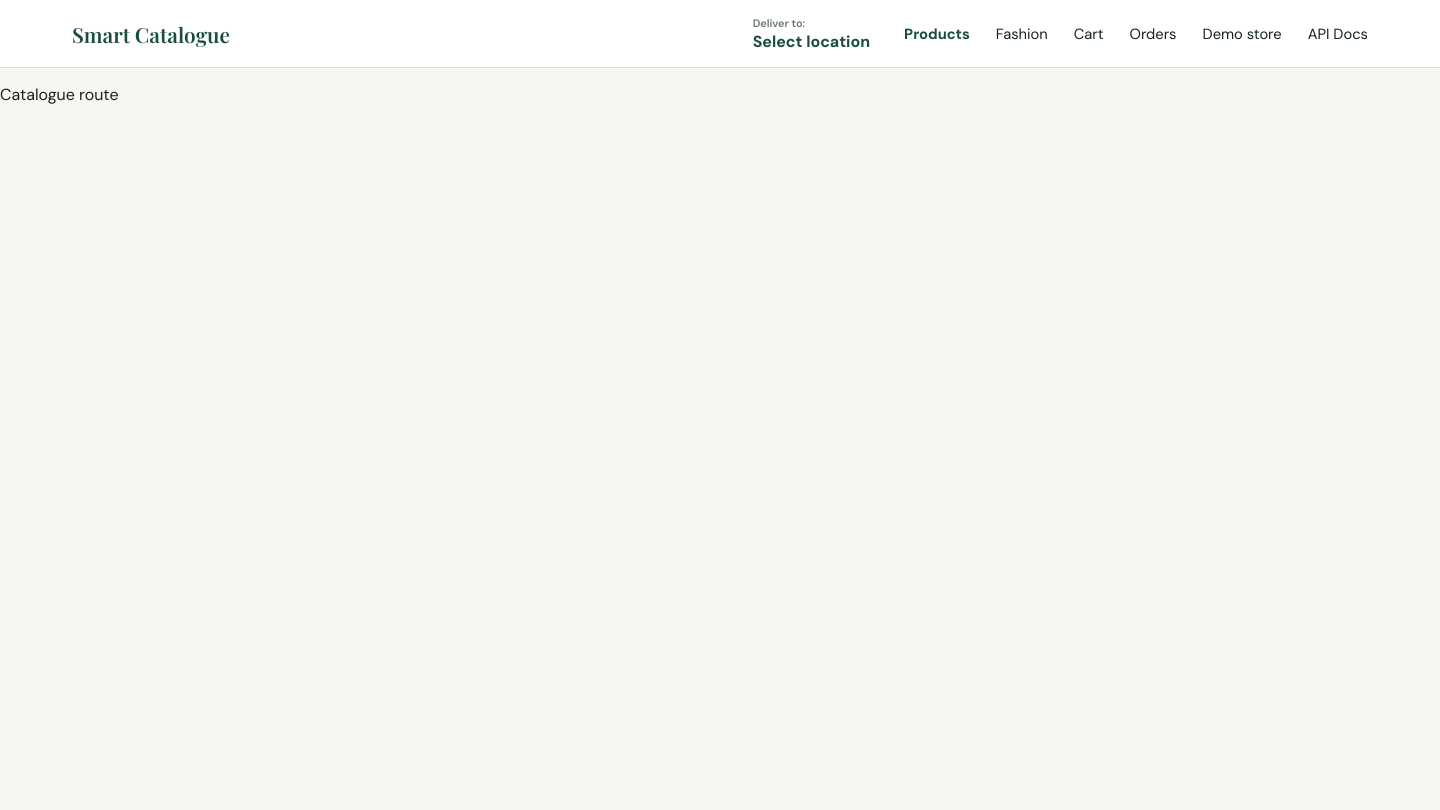
Scenario: LocationSelector › handles geolocation error code 1
The image size is (1440, 810).
What coordinates should you click on to do the following:
click the button "Deliver to: Select location"
I would click on:
 (811, 34)
Its box is [743,10,880,58].
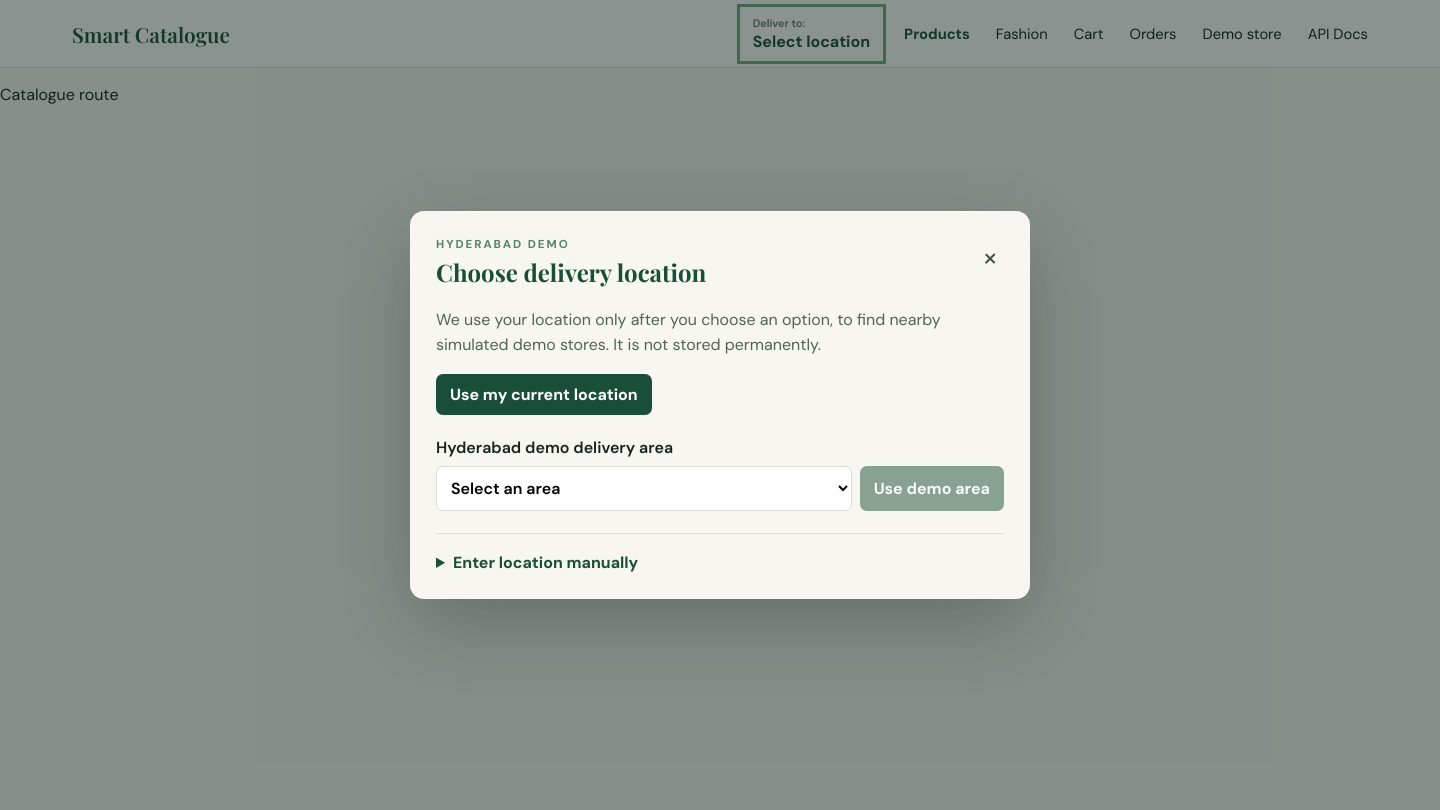
What coordinates should you click on to do the following:
click the button "Use my current location"
I would click on:
 (544, 394)
Its box is [436,374,652,415].
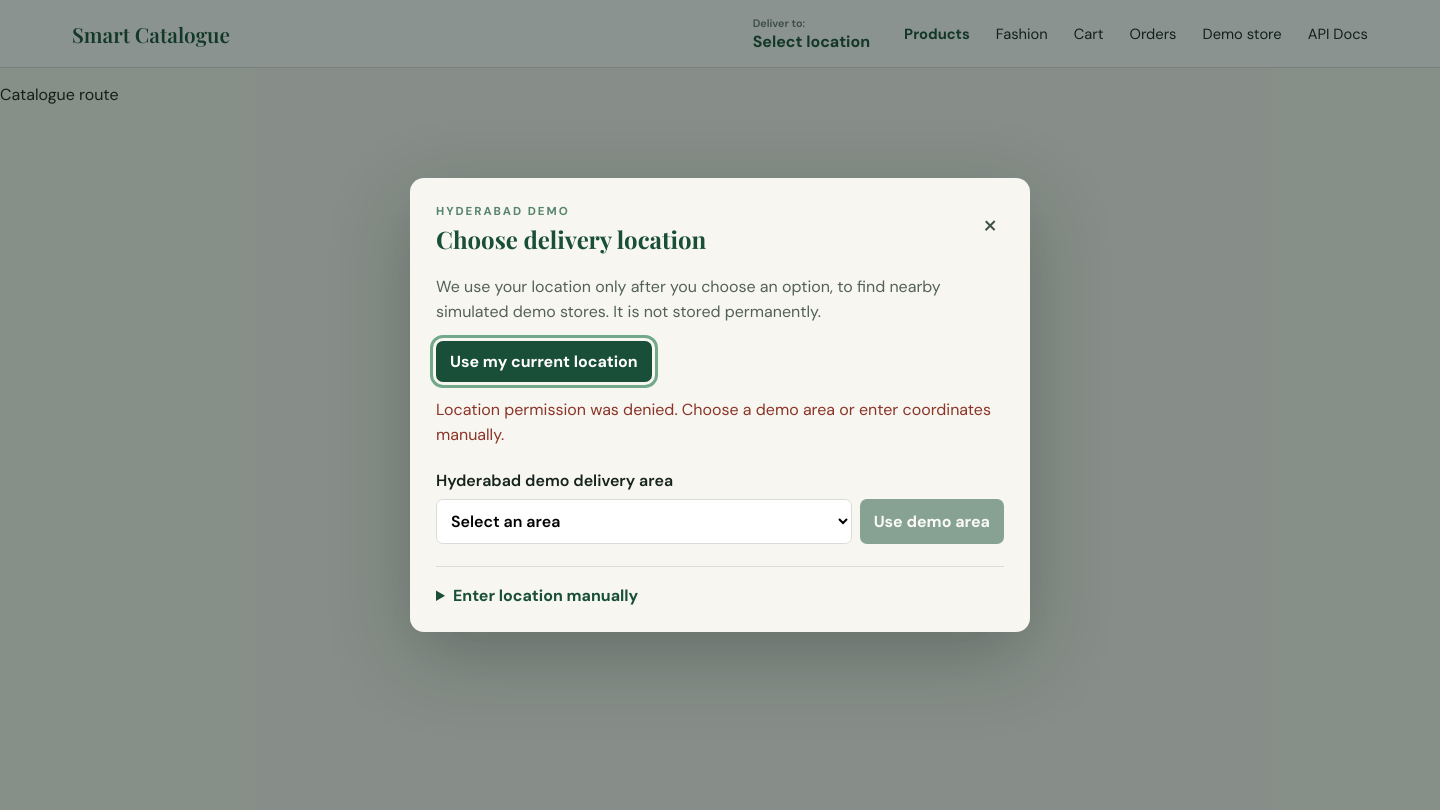
Result: the message shows "permission was denied" at [436,399,991,445]
